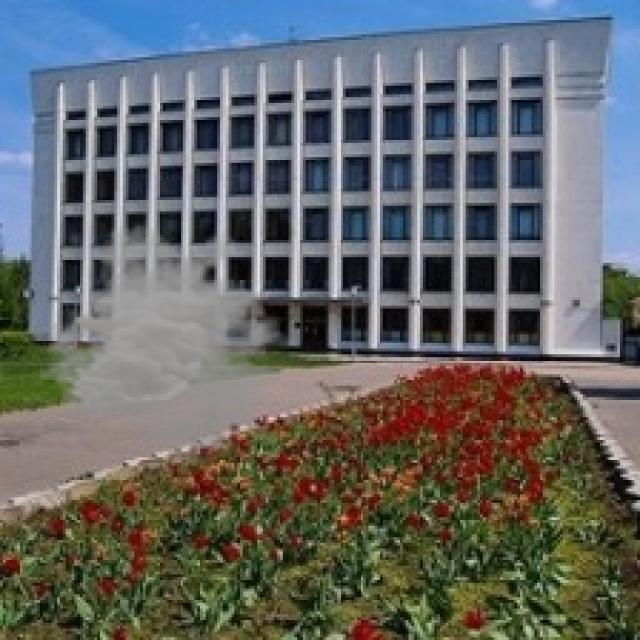smoke: (34, 223, 309, 454)
